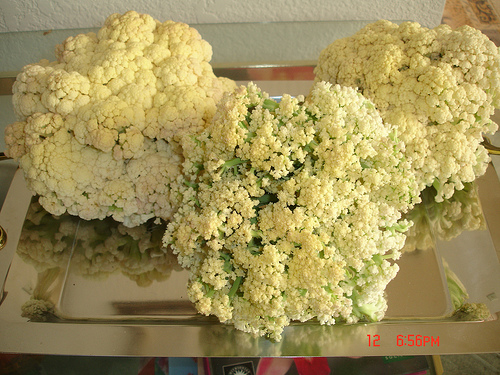cauliflower: (162, 79, 420, 339), (1, 11, 239, 228), (298, 12, 499, 206)
